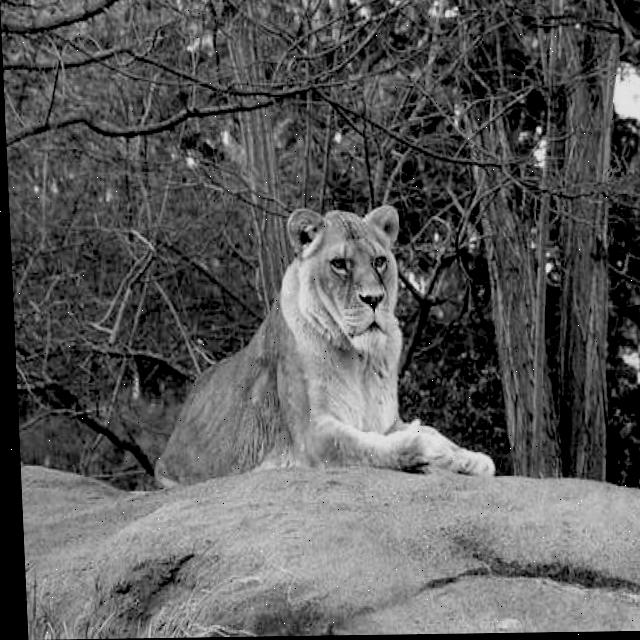Lion: (149, 157, 462, 507), (187, 191, 455, 479)
